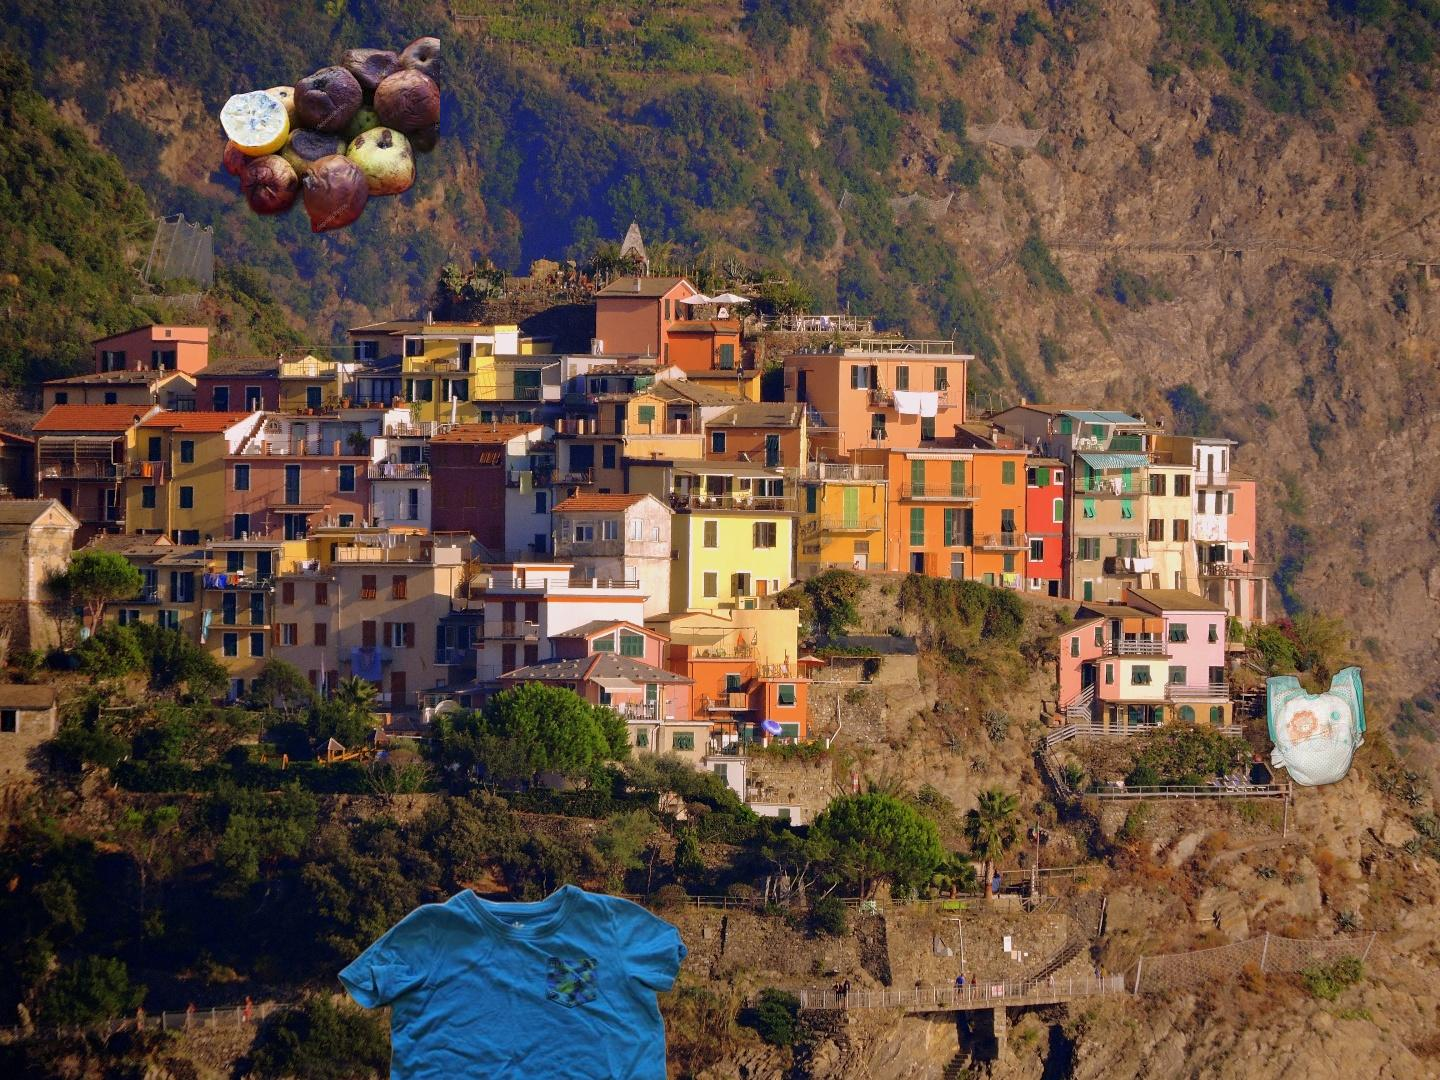biological: (217, 24, 440, 233), (268, 1009, 731, 1080)
clothes: (333, 879, 691, 1080)
trash: (1262, 642, 1369, 788)
